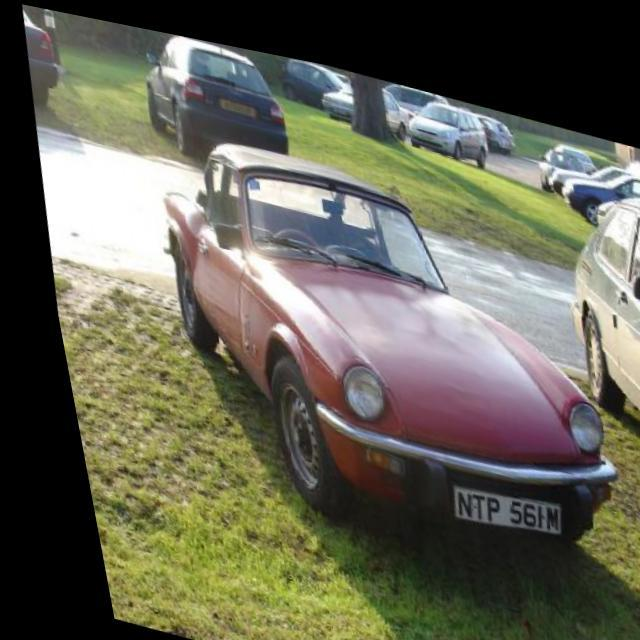license_plate: (433, 462, 552, 528), (217, 90, 254, 110)
